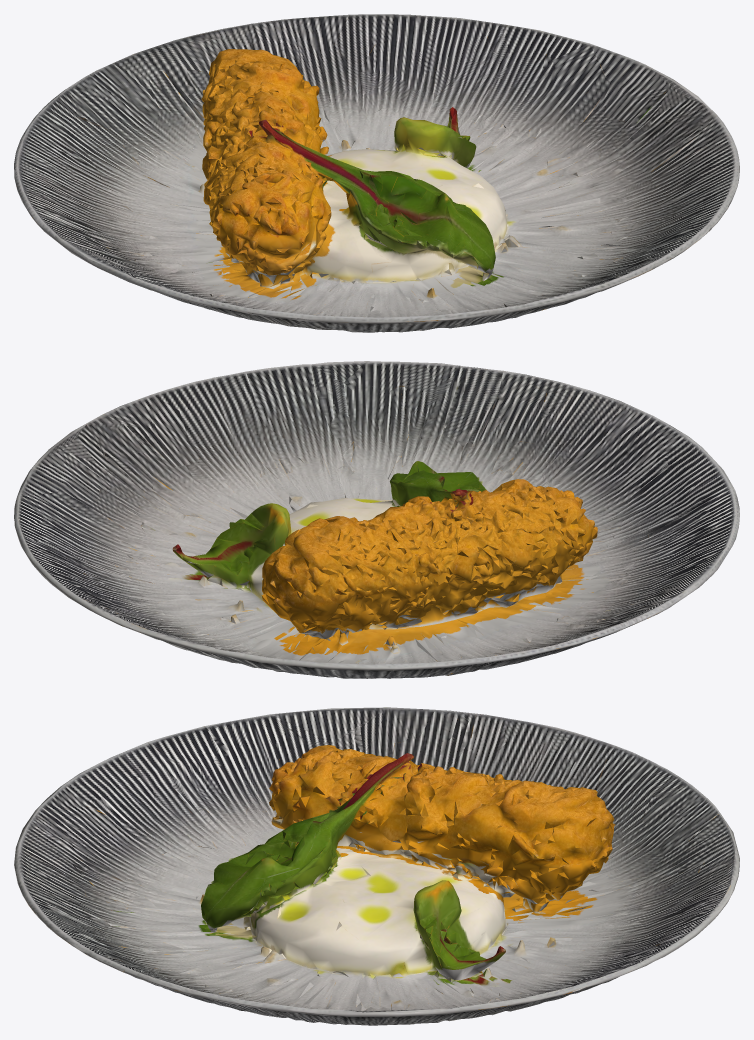
Rendered from krokiet-kozi-ser.glb.
3 renders of one model, top to bottom at view 1: azimuth 30°, elevation 25°; view 2: azimuth 150°, elevation 25°; view 3: azimuth 270°, elevation 25°, orthographic.
Parts seen in each view (by area): view 1: output_unwrapped; view 2: output_unwrapped; view 3: output_unwrapped.
Part boxes in pixels (x1,y1,x2,y2): output_unwrapped: [14, 14, 739, 332]; output_unwrapped: [14, 361, 739, 678]; output_unwrapped: [14, 707, 739, 1025].
Bounding box in the file's own units: 0.6085 × 0.12 × 0.6088.
1 material, 1 textured.
